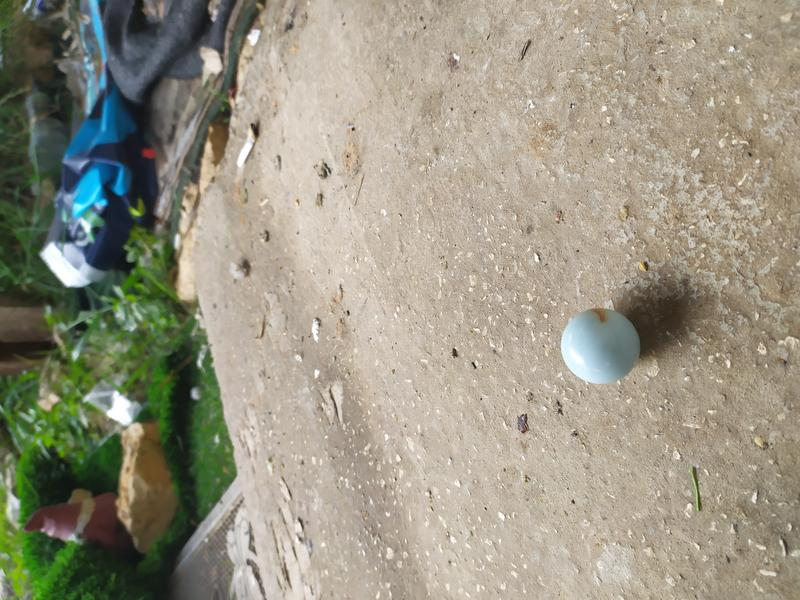Warning: (558, 305, 645, 386)
